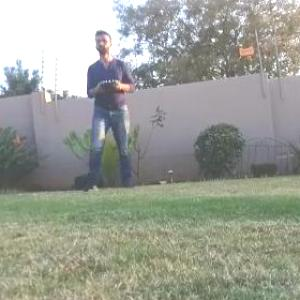follow: (76, 23, 139, 200)
